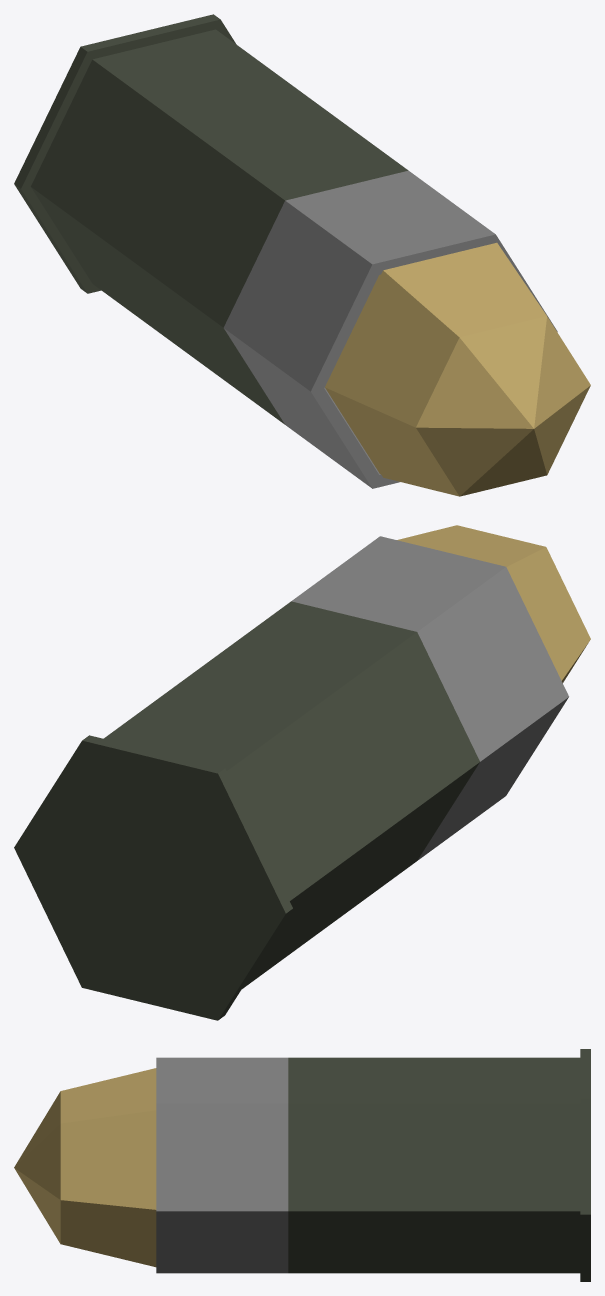
Rendered from grenade_launcher_40mm_grenade.fbx.
The picture shows the model from 3 angles, top to bottom: view 1: azimuth 30°, elevation 25°; view 2: azimuth 150°, elevation 25°; view 3: azimuth 270°, elevation 25°; orthographic projection. The views are drawn at different scales.
Visible parts, largest first — view 1: grenades_A; view 2: grenades_A; view 3: grenades_A.
Boxes of the visible parts, x1=… form: grenades_A: x1=14, y1=14, x2=590, y2=496; grenades_A: x1=14, y1=525, x2=590, y2=1020; grenades_A: x1=14, y1=1049, x2=590, y2=1281.
Bounding box in the file's own units: 5.07 × 4.41 × 12.57.
